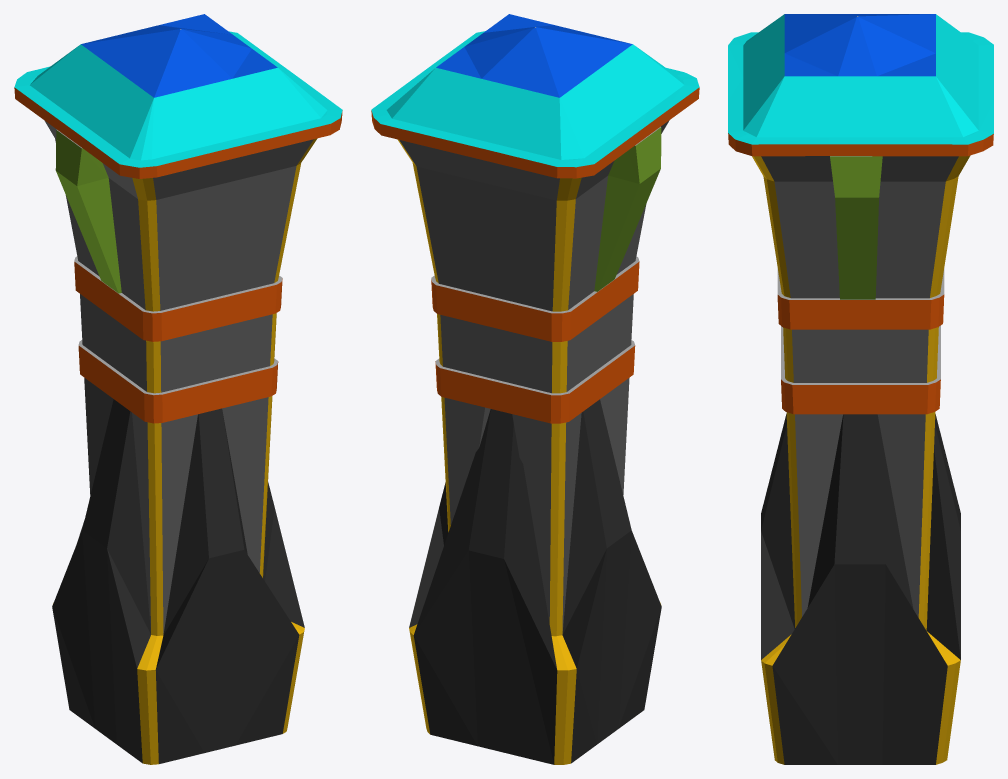
Rendered from Pillar.fbx.
3 renders of one model, left to right at view 1: azimuth 30°, elevation 25°; view 2: azimuth 150°, elevation 25°; view 3: azimuth 270°, elevation 25°, orthographic. The views are drawn at different scales.
Parts seen in each view (by area): view 1: pCube1; view 2: pCube1; view 3: pCube1.
Part boxes in pixels (left/top/right/bottom): pCube1: left=14, top=14, right=342, bottom=764; pCube1: left=371, top=14, right=699, bottom=764; pCube1: left=728, top=14, right=993, bottom=764.
Bounding box in the file's own units: 115 × 337 × 114.
